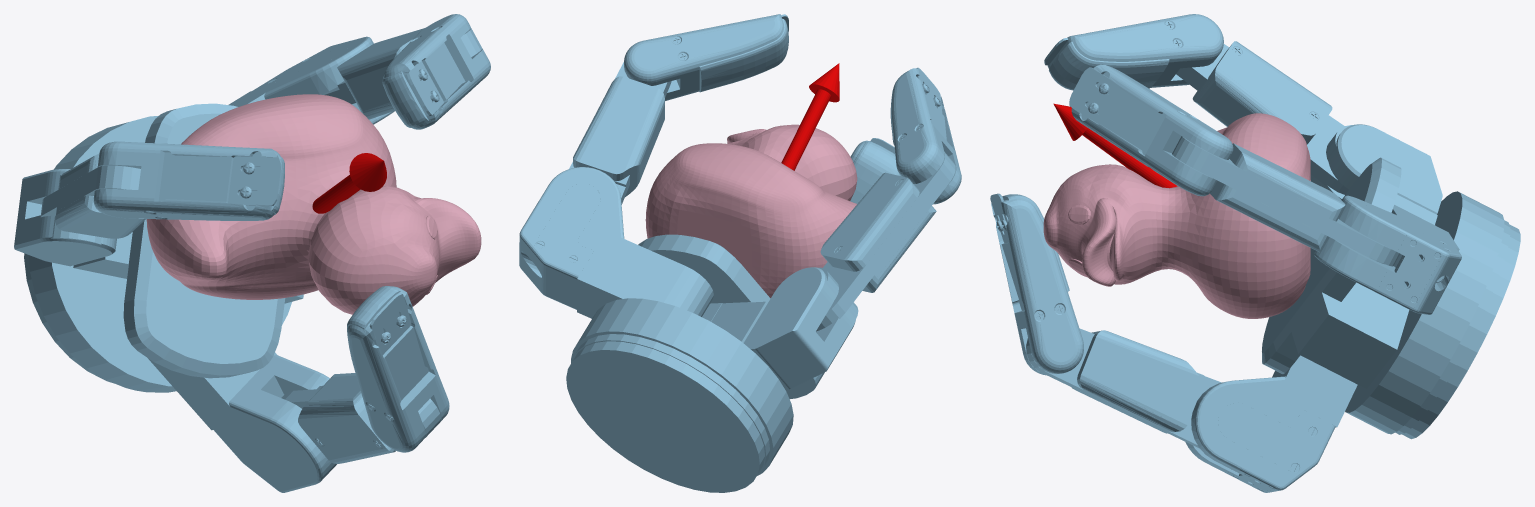
3 renders of one model, left to right at view 1: azimuth 30°, elevation 25°; view 2: azimuth 150°, elevation 25°; view 3: azimuth 270°, elevation 25°, orthographic. The views are drawn at different scales.
Parts seen in each view (by area): view 1: world, rubber_duck.stl; view 2: world, rubber_duck.stl; view 3: world, rubber_duck.stl.
Part boxes in pixels (x1,y1,x2,y2): world: [14, 14, 490, 492]; rubber_duck.stl: [146, 94, 481, 314]; world: [519, 14, 961, 492]; rubber_duck.stl: [645, 124, 857, 298]; world: [990, 14, 1520, 492]; rubber_duck.stl: [1043, 113, 1310, 318].
Bounding box in the file's own units: 0.1497 × 0.1747 × 0.1902.
